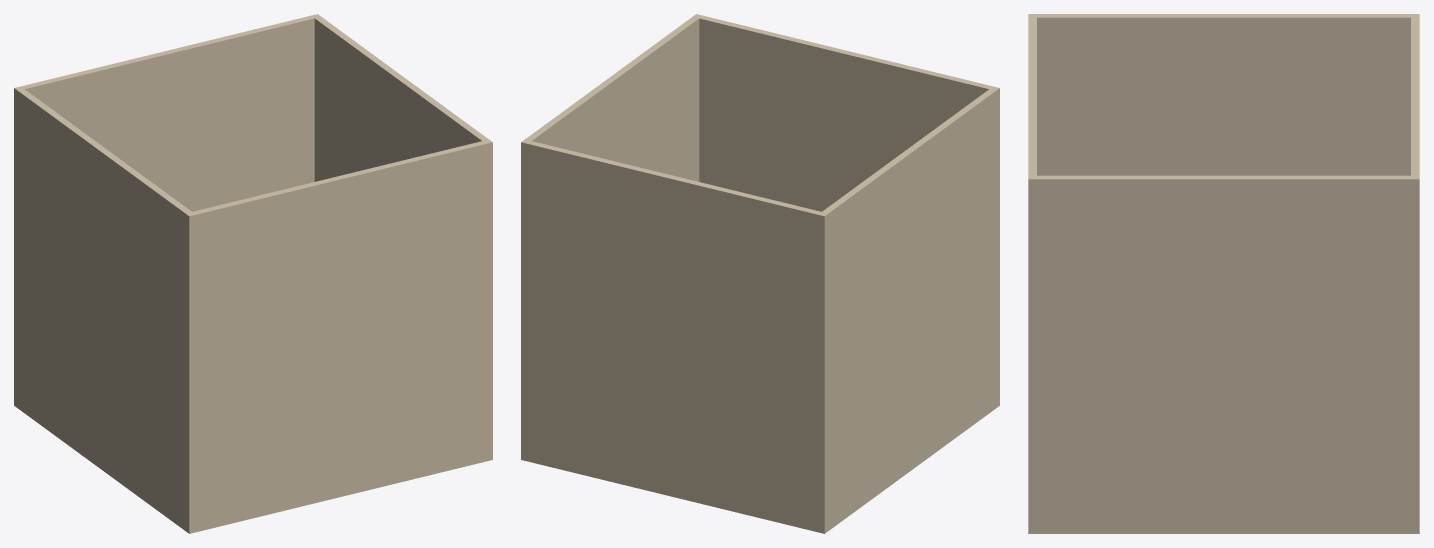
File: future_development.glb
3 renders of one model, left to right at view 1: azimuth 30°, elevation 25°; view 2: azimuth 150°, elevation 25°; view 3: azimuth 270°, elevation 25°, orthographic. The views are drawn at different scales.
Visible parts, largest first — view 1: future_development; view 2: future_development; view 3: future_development.
Part boxes in pixels (x1,y1,x2,y2): future_development: (14,14,492,533); future_development: (521,14,999,533); future_development: (1028,14,1419,533).
Size of the model in its own units: 1 by 1 by 1.
